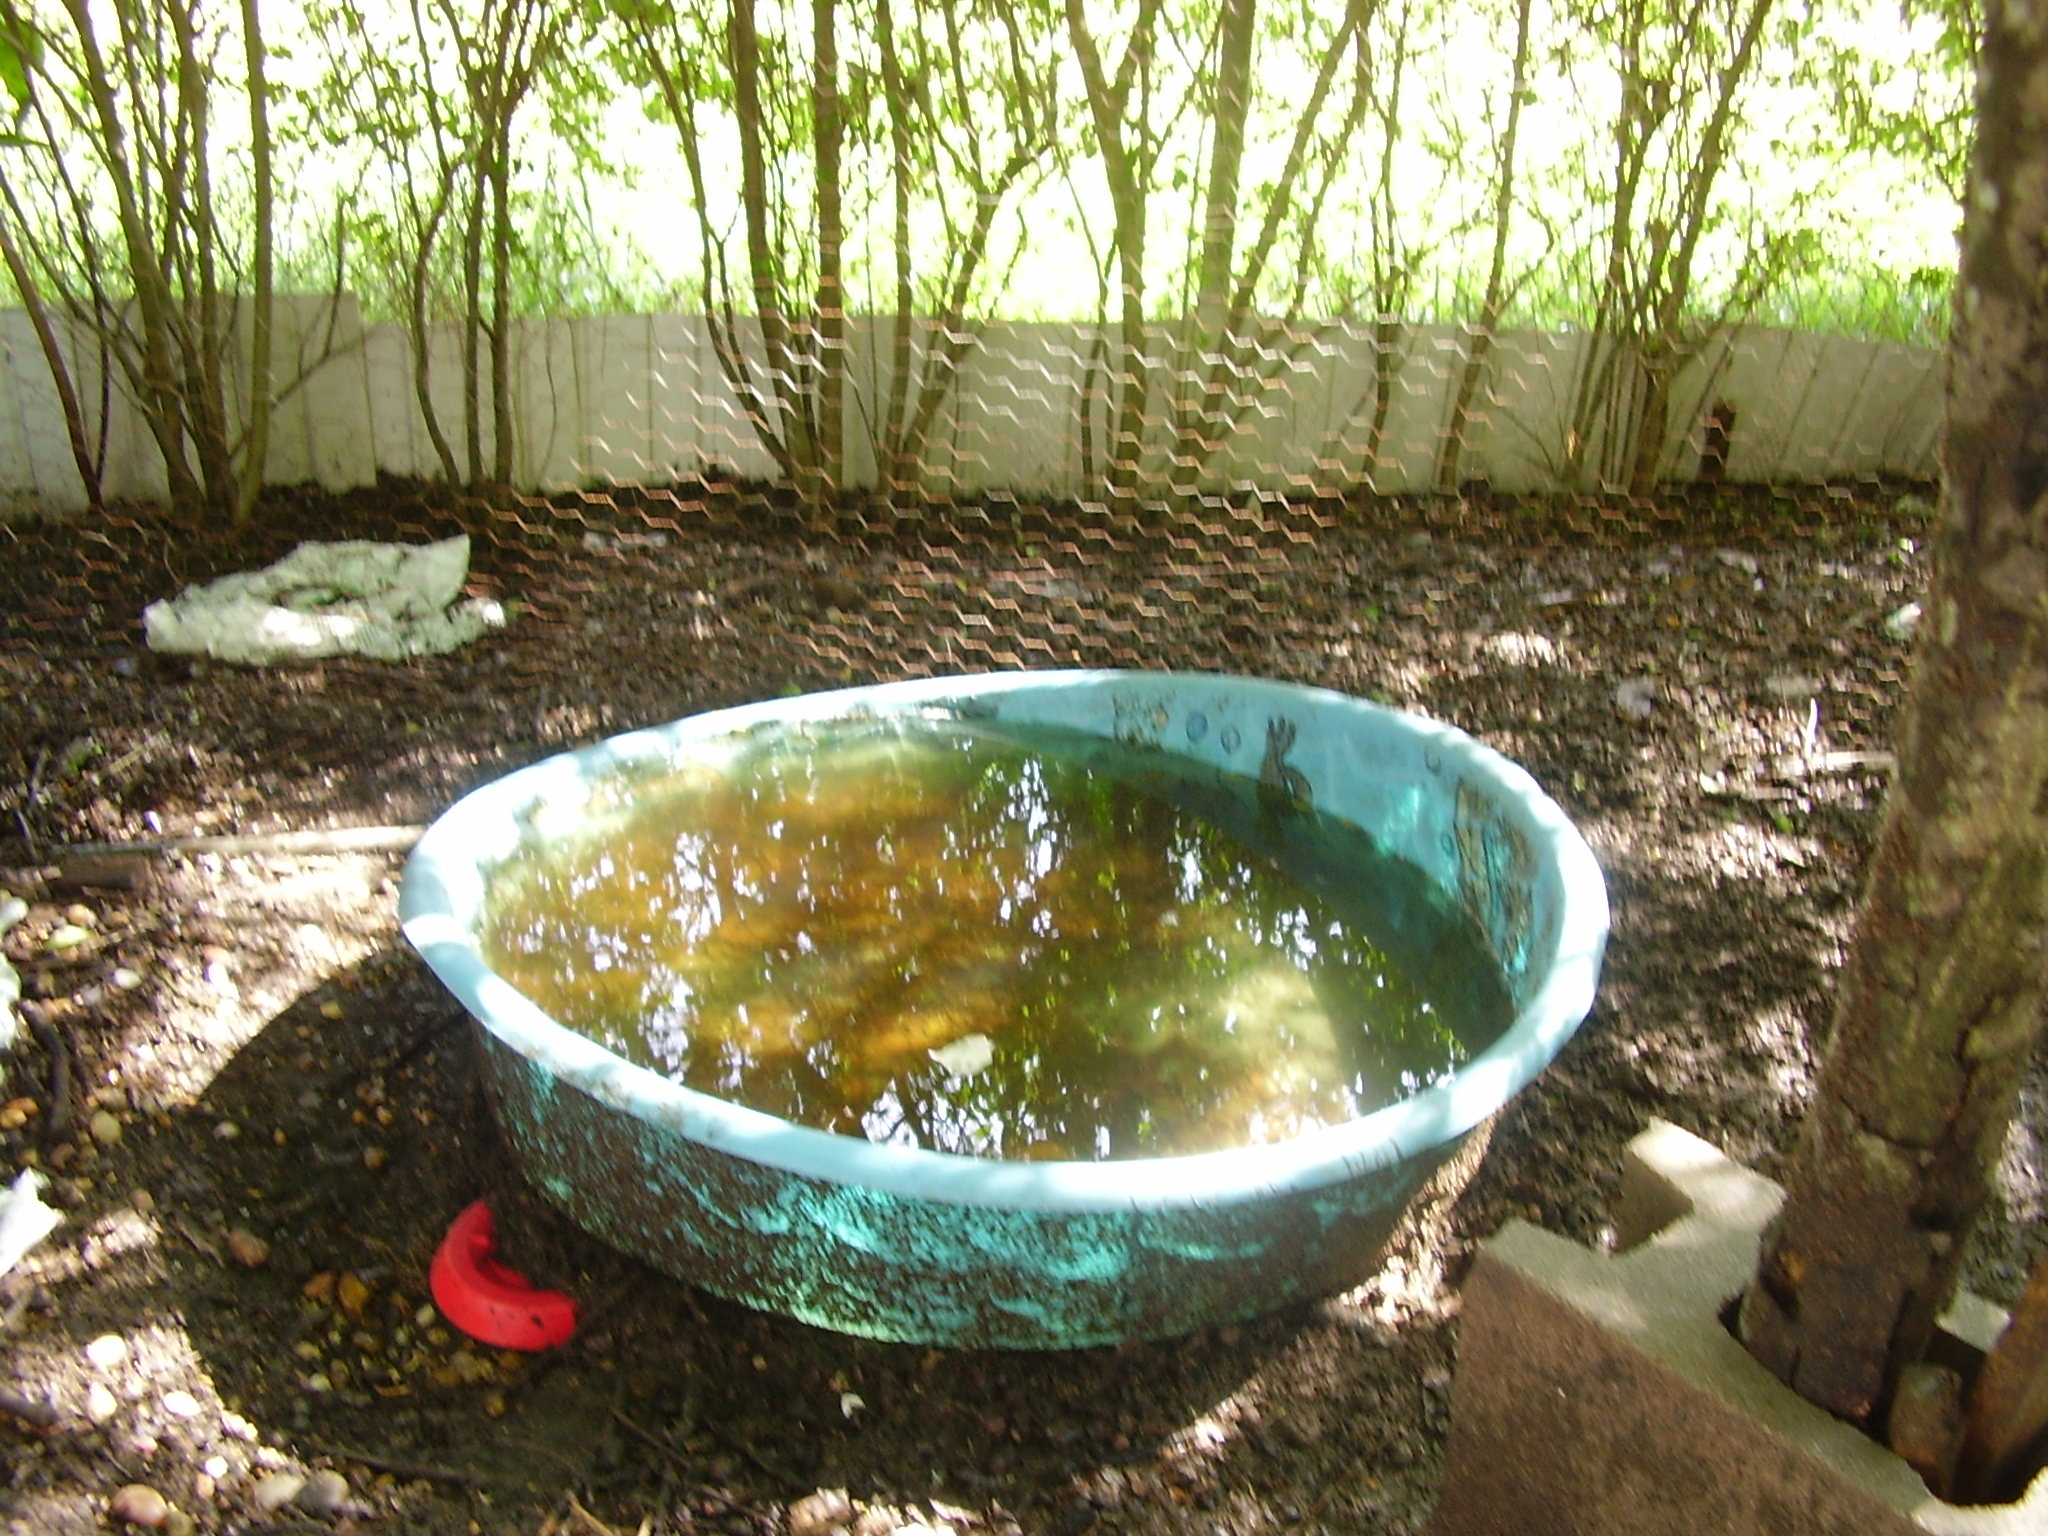contianer: (406, 594, 1640, 1376)
water: (472, 673, 1538, 1217)
